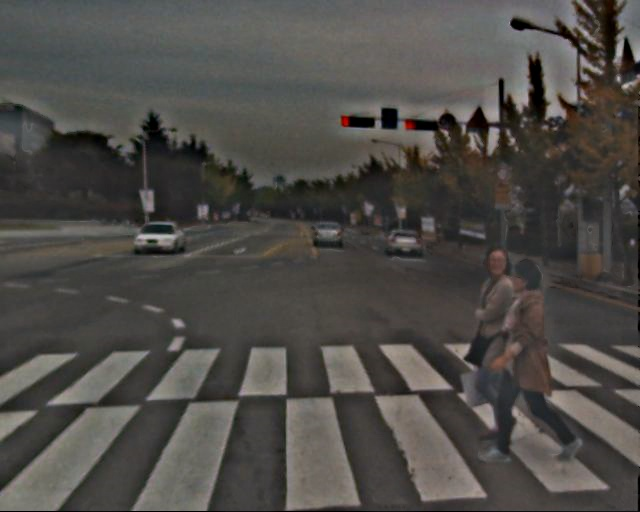person: (486, 255, 565, 463), (460, 240, 531, 446)
